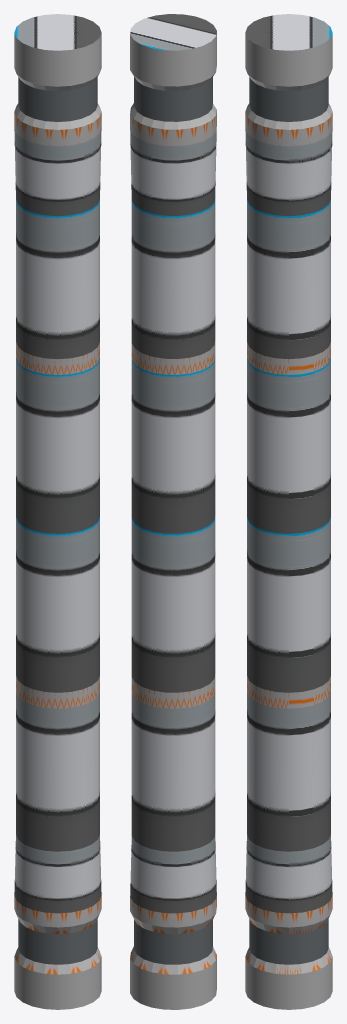
File: BigColumn.fbx
3 renders of one model, left to right at view 1: azimuth 90°, elevation 25°; view 2: azimuth 150°, elevation 25°; view 3: azimuth 270°, elevation 25°, orthographic.
Parts seen in each view (by area): view 1: pCylinder5; view 2: pCylinder5; view 3: pCylinder5.
Boxes of the visible parts, x1,y1,x2,y2 form: pCylinder5: [14, 14, 101, 1009]; pCylinder5: [130, 14, 216, 1009]; pCylinder5: [245, 14, 332, 1009].
Bounding box in the file's own units: 0.8236 × 10 × 0.8236.
